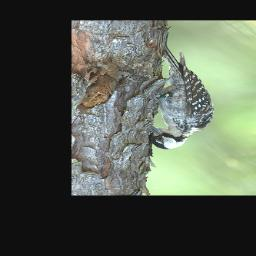Woodpecker: (149, 46, 216, 150)
